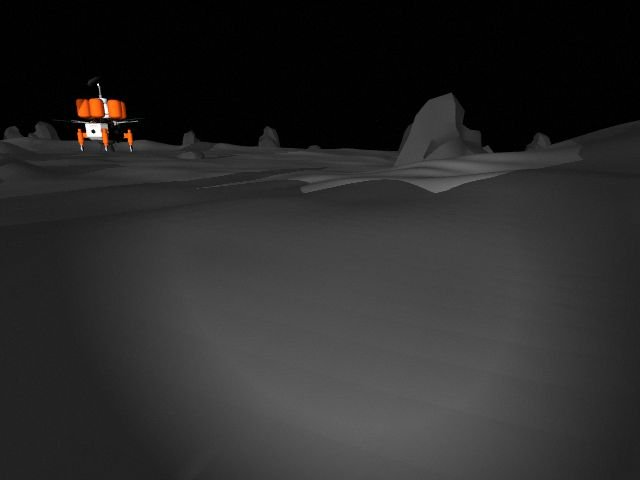homebase: (50, 73, 153, 152)
